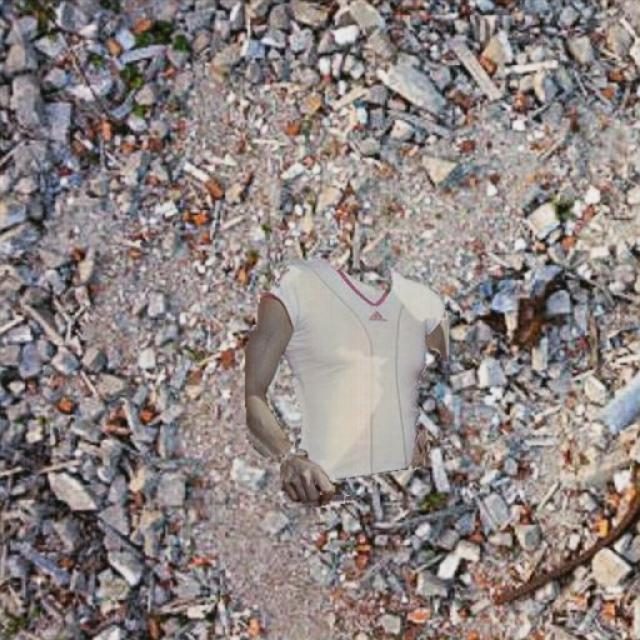Person in Rubble: (245, 258, 449, 507)
